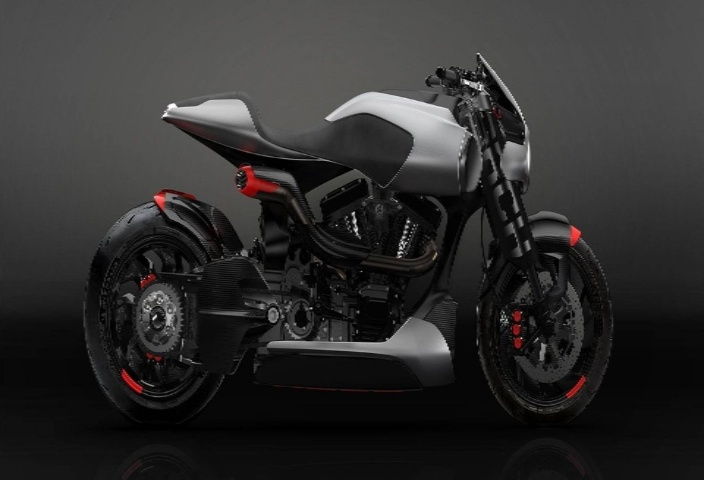motorcycle: (69, 60, 619, 425)
